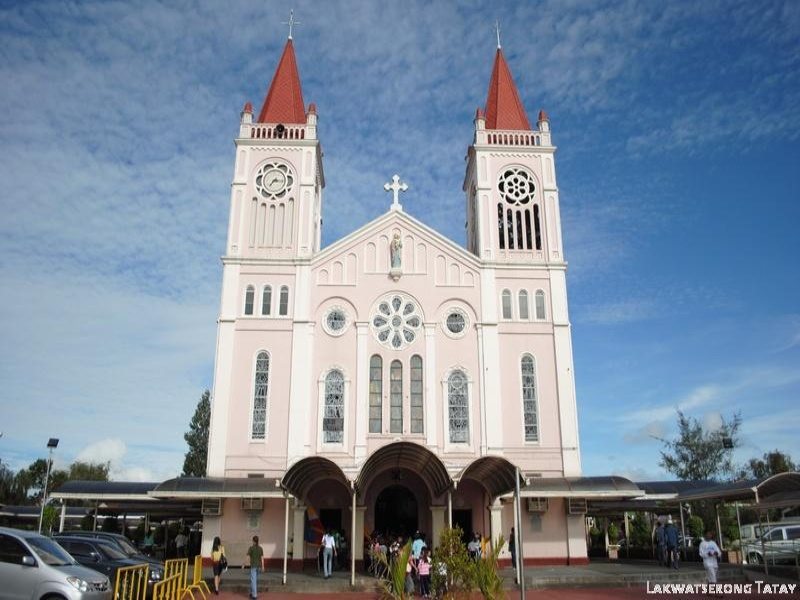Cathedral: (184, 2, 602, 587)
